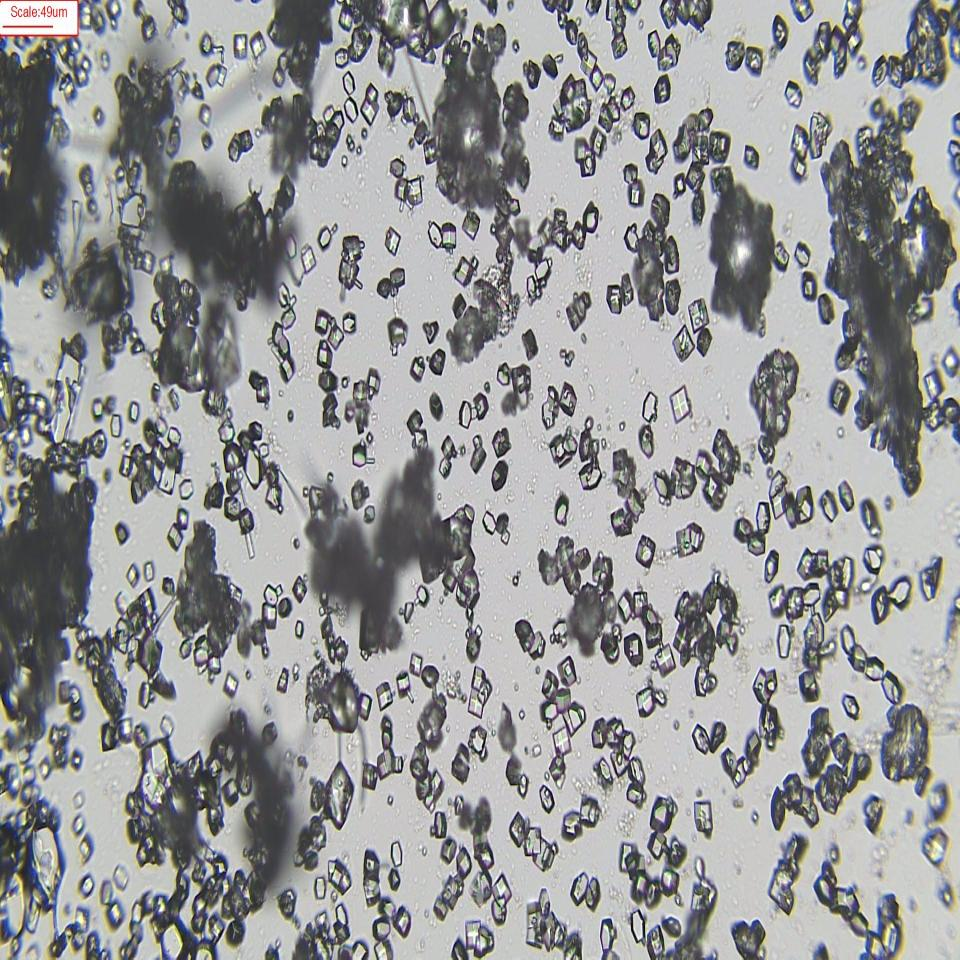crystal: (323, 760, 355, 828), (921, 825, 952, 867), (649, 794, 676, 834), (426, 218, 450, 260), (862, 794, 886, 836), (646, 128, 668, 173), (928, 780, 952, 821), (752, 666, 776, 706), (672, 326, 697, 363), (860, 497, 882, 538), (669, 386, 692, 424), (652, 644, 678, 676), (622, 632, 645, 668), (881, 673, 906, 706), (872, 585, 892, 625), (610, 505, 634, 538), (645, 925, 669, 958), (694, 664, 717, 698), (600, 627, 621, 664), (832, 555, 854, 590), (830, 379, 851, 415), (769, 784, 784, 834), (688, 296, 710, 330), (579, 794, 601, 828), (798, 669, 820, 703), (647, 828, 669, 862), (451, 747, 471, 784), (581, 201, 604, 233), (557, 654, 578, 688), (636, 532, 655, 569), (546, 753, 566, 788), (377, 273, 394, 314), (725, 38, 746, 71), (422, 660, 443, 693), (599, 916, 616, 956), (618, 842, 638, 876), (626, 756, 646, 790), (520, 328, 541, 360), (841, 690, 864, 719), (745, 730, 763, 766), (136, 680, 154, 716), (427, 388, 443, 428), (562, 810, 583, 840), (570, 871, 588, 906), (776, 622, 792, 661), (764, 547, 780, 586), (552, 725, 572, 756), (179, 476, 197, 510), (665, 278, 681, 316), (224, 495, 243, 527), (837, 480, 855, 513), (432, 808, 448, 845), (456, 397, 472, 434), (292, 577, 311, 608), (784, 79, 804, 108), (216, 418, 236, 447), (661, 865, 681, 894), (605, 283, 622, 317), (638, 424, 655, 458), (466, 630, 483, 664), (694, 798, 712, 830), (394, 906, 412, 938), (818, 292, 836, 324), (574, 138, 592, 170), (278, 358, 300, 384), (350, 442, 371, 469), (618, 589, 635, 622), (560, 382, 577, 415), (554, 492, 570, 527), (492, 427, 510, 458), (654, 74, 672, 105), (462, 209, 480, 240), (112, 519, 130, 550), (660, 916, 683, 940), (158, 714, 182, 737), (821, 489, 838, 521), (259, 720, 279, 747), (622, 156, 640, 186), (455, 258, 474, 286), (468, 724, 487, 752), (630, 909, 646, 942), (584, 877, 600, 910), (756, 501, 772, 534), (732, 517, 756, 539), (384, 226, 401, 257), (623, 222, 640, 253), (746, 45, 764, 74), (772, 241, 790, 270), (428, 348, 446, 377), (371, 916, 391, 942), (642, 390, 658, 422), (636, 686, 653, 716), (492, 459, 509, 489), (375, 682, 393, 710), (301, 247, 318, 276), (112, 863, 129, 892), (645, 30, 662, 59), (118, 719, 136, 746), (744, 532, 766, 554), (362, 762, 378, 792), (262, 603, 279, 631), (405, 408, 423, 434), (357, 692, 373, 721), (539, 784, 555, 813), (79, 831, 95, 860), (633, 111, 650, 138), (222, 779, 241, 803), (387, 865, 402, 895), (333, 44, 351, 69), (317, 340, 333, 368), (743, 144, 760, 170), (452, 291, 466, 322), (250, 31, 266, 58), (795, 240, 811, 267), (108, 902, 125, 927), (455, 848, 470, 876), (239, 507, 254, 535), (127, 398, 141, 428), (233, 32, 249, 58), (864, 546, 880, 572), (404, 97, 418, 126), (672, 172, 687, 199), (343, 97, 359, 122), (432, 897, 448, 922), (142, 556, 156, 584), (495, 509, 509, 537), (481, 511, 498, 534), (801, 272, 816, 298), (390, 840, 404, 867), (442, 221, 456, 247), (590, 65, 604, 91), (71, 750, 85, 776), (396, 672, 411, 696), (125, 564, 140, 588), (314, 311, 330, 333), (342, 71, 356, 96), (792, 155, 806, 180), (167, 424, 182, 447), (224, 672, 238, 696), (110, 412, 122, 440), (175, 507, 191, 528), (341, 312, 356, 334), (412, 357, 425, 382), (168, 524, 181, 549), (276, 668, 289, 693), (314, 876, 326, 903), (630, 182, 644, 205), (620, 84, 633, 108), (442, 840, 456, 862), (80, 874, 94, 896), (416, 584, 430, 606), (118, 456, 132, 478), (362, 503, 378, 522), (278, 597, 293, 617), (409, 653, 422, 675), (156, 415, 169, 436), (70, 814, 83, 834), (319, 226, 331, 247), (92, 398, 104, 419), (200, 105, 211, 124), (295, 619, 303, 644), (286, 406, 297, 424), (386, 790, 396, 806)
not_crystal: (509, 812, 554, 868), (653, 458, 698, 501), (147, 445, 183, 493), (376, 719, 405, 774), (782, 488, 815, 530), (468, 668, 493, 720), (361, 849, 381, 906), (396, 173, 424, 213), (526, 260, 552, 302), (567, 290, 592, 331), (767, 471, 788, 519), (676, 522, 704, 558), (465, 920, 494, 953), (550, 434, 578, 466), (541, 384, 560, 431), (649, 191, 671, 230), (493, 877, 510, 924), (361, 84, 379, 125), (328, 860, 348, 890), (208, 62, 228, 89)
